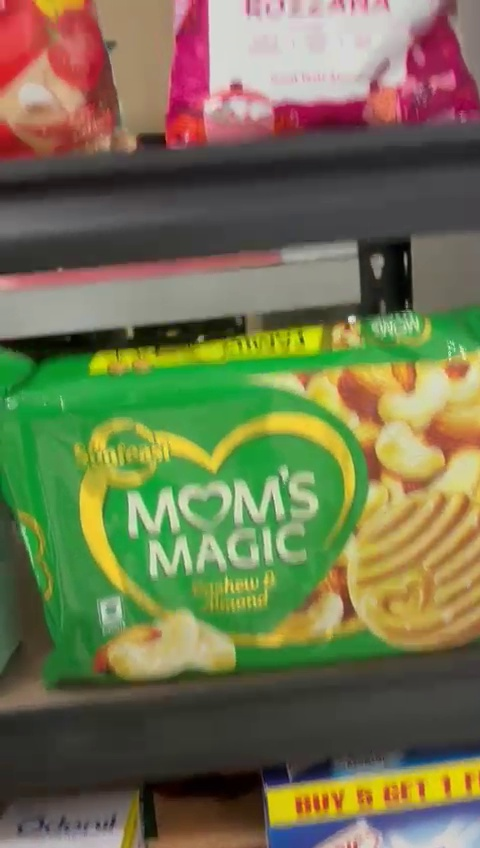Moms magic: (0, 351, 480, 670)
